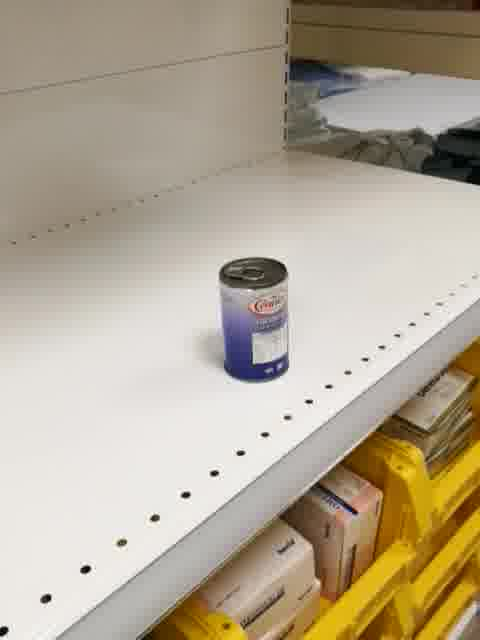sardine: (218, 256, 291, 384)
